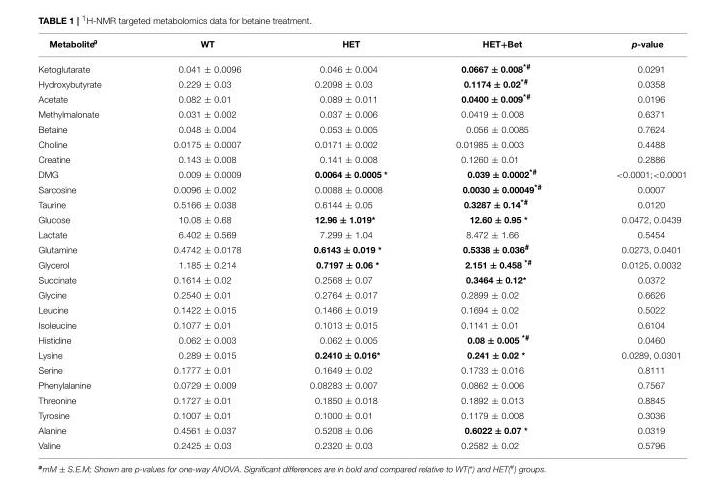table: (37, 37, 686, 449)
table column: (420, 37, 577, 449), (274, 37, 420, 449), (136, 37, 274, 449), (577, 37, 686, 449), (37, 37, 136, 449)
table column header: (37, 37, 686, 55)
table row: (37, 55, 686, 75), (37, 37, 686, 55), (37, 195, 686, 212), (37, 90, 686, 106), (37, 256, 686, 272), (37, 331, 686, 347), (37, 75, 686, 90), (37, 106, 686, 121), (37, 121, 686, 136), (37, 136, 686, 151), (37, 165, 686, 180), (37, 180, 686, 195), (37, 212, 686, 227), (37, 241, 686, 256), (37, 272, 686, 287), (37, 287, 686, 302), (37, 302, 686, 317), (37, 347, 686, 362), (37, 362, 686, 377), (37, 377, 686, 392), (37, 392, 686, 407), (37, 407, 686, 422), (37, 422, 686, 437), (37, 151, 686, 165), (37, 227, 686, 241), (37, 317, 686, 331), (37, 437, 686, 449)
